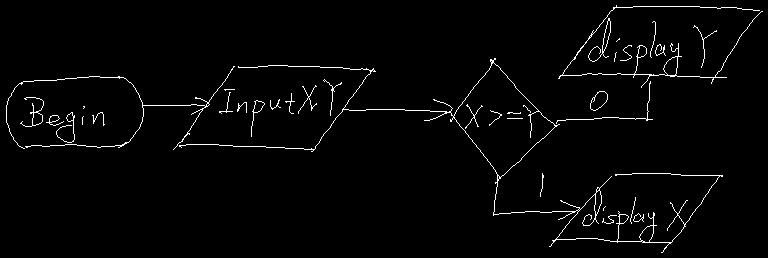arrow: (556, 74, 653, 123), (493, 175, 579, 219), (342, 99, 452, 120), (142, 97, 209, 114)
data: (173, 65, 375, 151), (558, 5, 762, 83), (549, 173, 722, 252)
decision: (449, 58, 559, 183)
terminator: (6, 76, 143, 148)
text: (588, 18, 716, 77), (219, 79, 341, 136), (582, 187, 687, 242), (20, 97, 104, 142), (465, 104, 538, 137), (590, 91, 607, 110), (540, 173, 543, 196)
